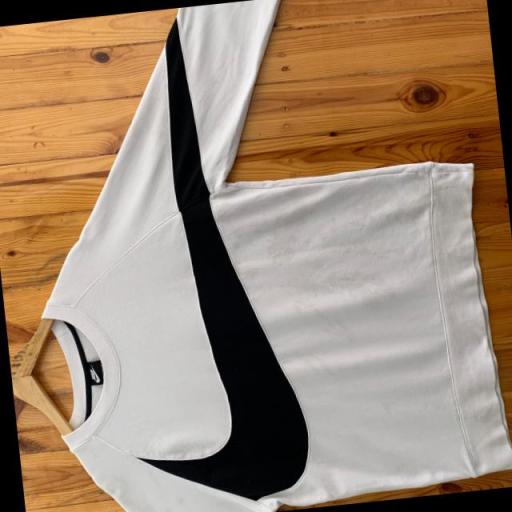Nike: (138, 12, 314, 502)
